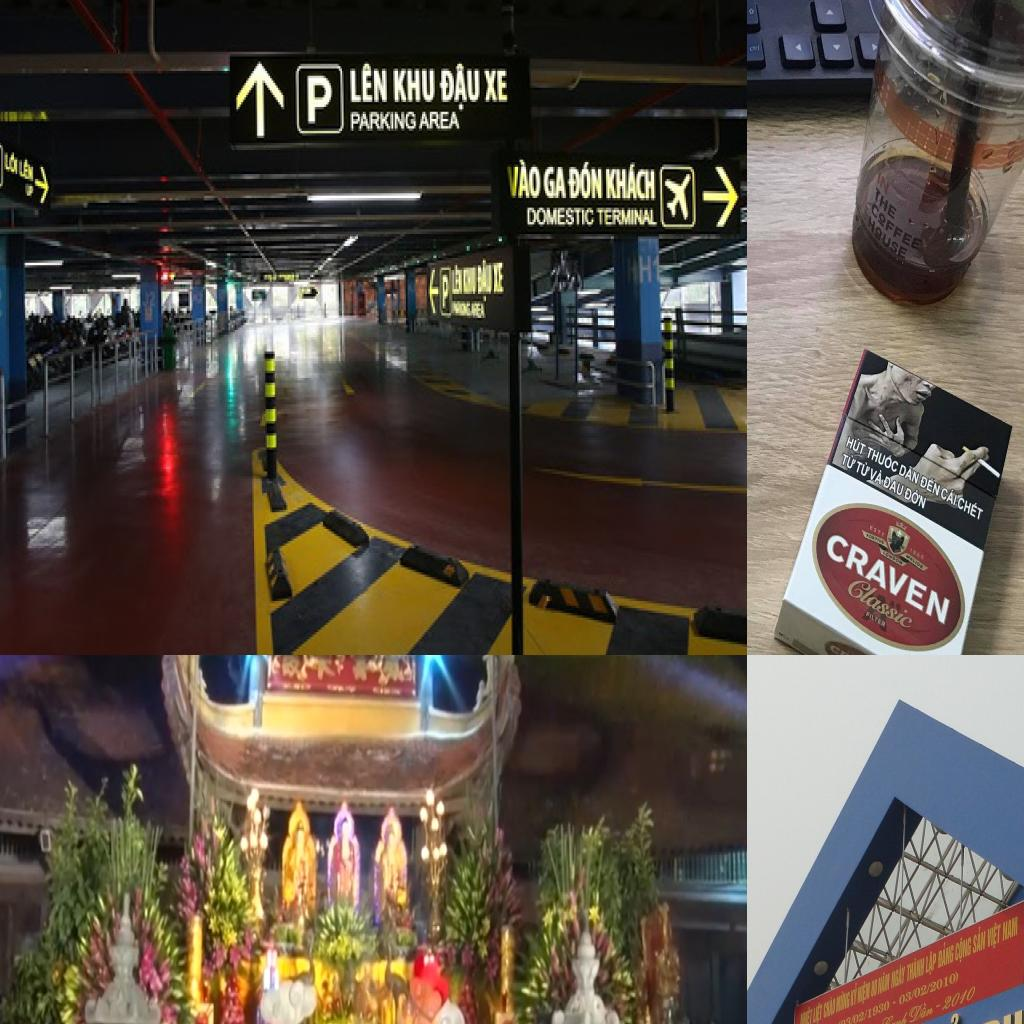text: (822, 527, 952, 627), (844, 574, 918, 633), (867, 200, 925, 258), (604, 162, 658, 205), (865, 213, 909, 265), (440, 62, 482, 116), (899, 971, 961, 1006), (350, 109, 419, 136), (393, 66, 438, 107), (350, 64, 390, 109), (526, 205, 596, 229), (305, 74, 336, 128), (506, 160, 544, 203), (568, 160, 604, 203), (940, 979, 980, 1015), (837, 1000, 891, 1024), (865, 442, 901, 476), (418, 110, 464, 134), (483, 68, 510, 107), (542, 164, 569, 203), (922, 1005, 975, 1024), (827, 640, 894, 655), (872, 185, 898, 223), (956, 492, 986, 523), (638, 253, 662, 287), (902, 484, 929, 511), (907, 997, 934, 1024), (906, 951, 926, 985), (918, 470, 942, 498), (880, 473, 906, 498), (955, 930, 973, 966), (491, 260, 507, 299), (898, 461, 922, 487), (936, 938, 954, 972), (844, 433, 868, 458), (986, 919, 1004, 952), (1002, 912, 1020, 944), (972, 923, 988, 958), (864, 608, 888, 630), (18, 157, 36, 186), (939, 484, 959, 509), (880, 1007, 909, 1024), (4, 150, 20, 179), (875, 168, 891, 197), (891, 961, 907, 990), (839, 449, 859, 472), (881, 549, 905, 568), (441, 272, 451, 314), (924, 949, 938, 979), (824, 994, 838, 1022), (877, 969, 891, 997), (854, 458, 872, 479), (837, 987, 851, 1013), (905, 552, 925, 570), (860, 977, 872, 1007), (869, 466, 885, 487), (865, 532, 885, 548), (868, 524, 886, 540), (798, 1005, 813, 1024), (849, 981, 859, 1008), (813, 1000, 824, 1024), (869, 974, 879, 1000), (908, 547, 926, 561), (748, 44, 760, 54)
